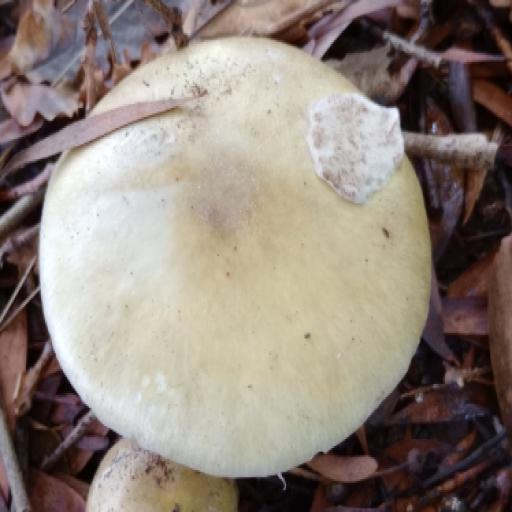mushroom: (39, 39, 431, 477)
